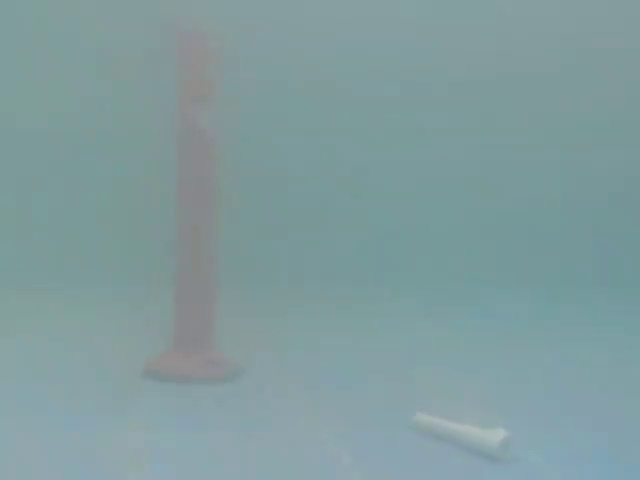flare: (133, 0, 248, 389)
